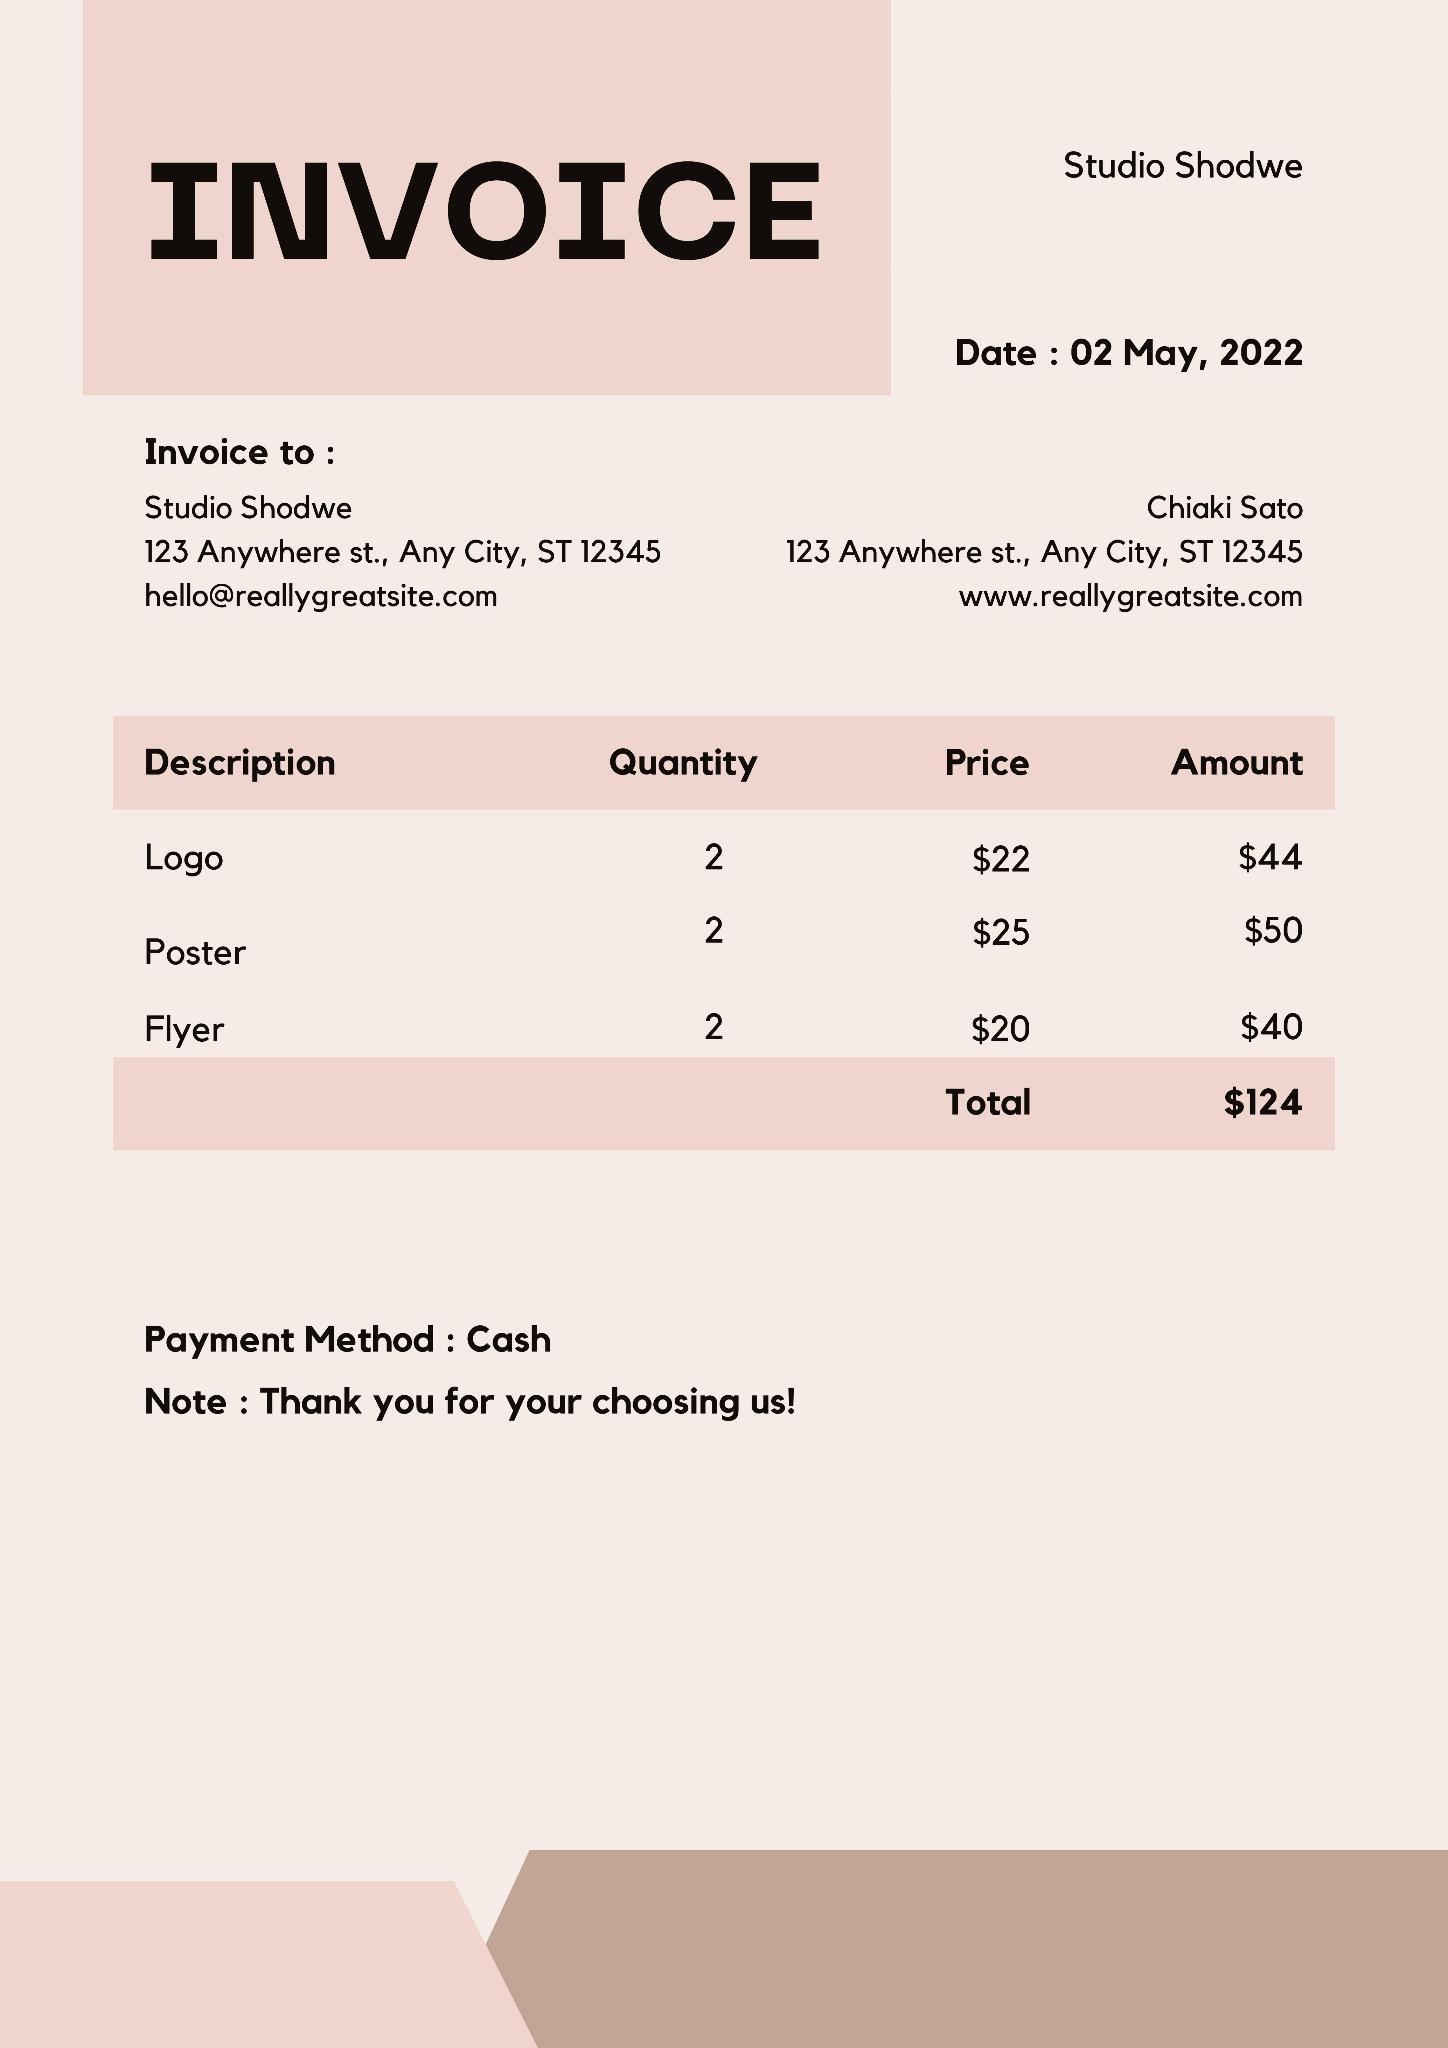ROI: (113, 719, 1329, 1056), (121, 411, 687, 620), (101, 137, 861, 280), (117, 1304, 850, 1449), (760, 469, 1348, 620), (930, 317, 1332, 388), (910, 1068, 1316, 1138), (1039, 136, 1323, 197)
